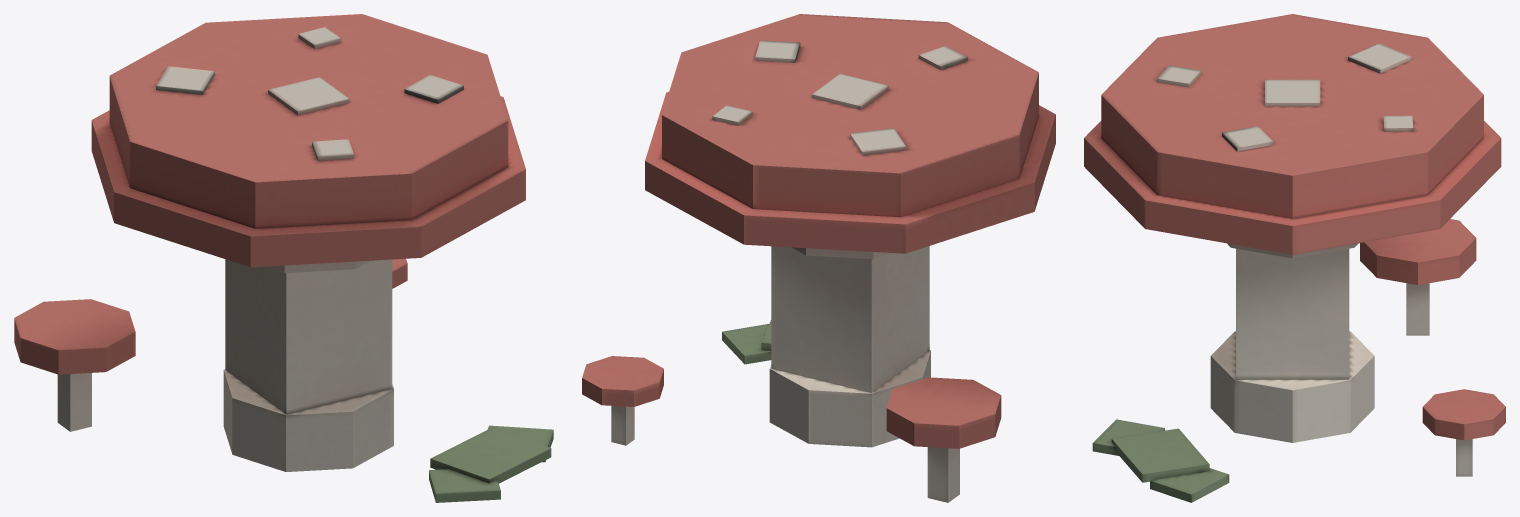
The model's file is bigshroom.glb.
3 renders of one model, left to right at view 1: azimuth 30°, elevation 25°; view 2: azimuth 150°, elevation 25°; view 3: azimuth 270°, elevation 25°, orthographic. The views are drawn at different scales.
Parts seen in each view (by area): view 1: bigshroom; view 2: bigshroom; view 3: bigshroom.
Boxes of the visible parts, x1,y1,x2,y2 form: bigshroom: [14, 14, 553, 502]; bigshroom: [582, 14, 1055, 502]; bigshroom: [1084, 14, 1505, 502].
Bounding box in the file's own units: 3.37 × 2.72 × 3.2.
4 materials, 4 textured.
